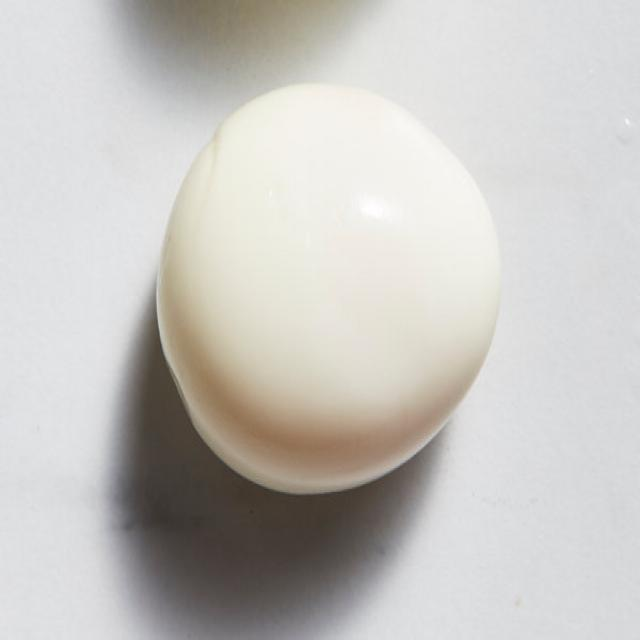Boiled Egg: (143, 71, 512, 508)
